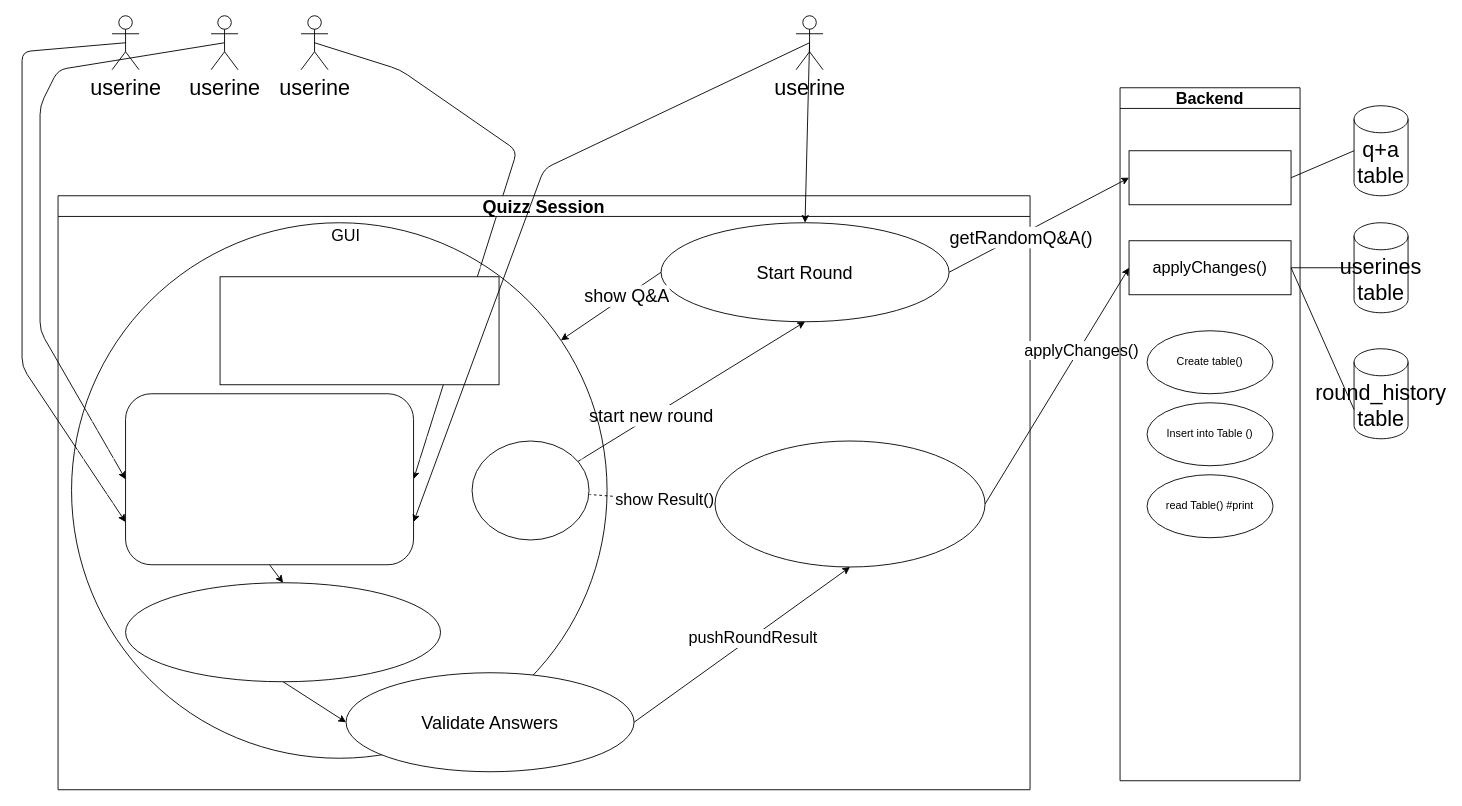
Image size: 1462x806. Some labels were removed from this diagram. The shapes that lost their labels are listed below. From the top down, each one's centre as x and y in pixels, then its label:
At [1209,177]: "getRandomQAndA()".
At [359,330]: "Frage: Text, Bild, Audio".
At [269,479]: "Anwortmaske multiple choice + pick One + pick multible + pick none + pick blind".
At [530,490]: "showResults".
At [849,503]: "Apply Changes to userines then show result".
At [283,632]: "All Session Userines picked an Answer".
